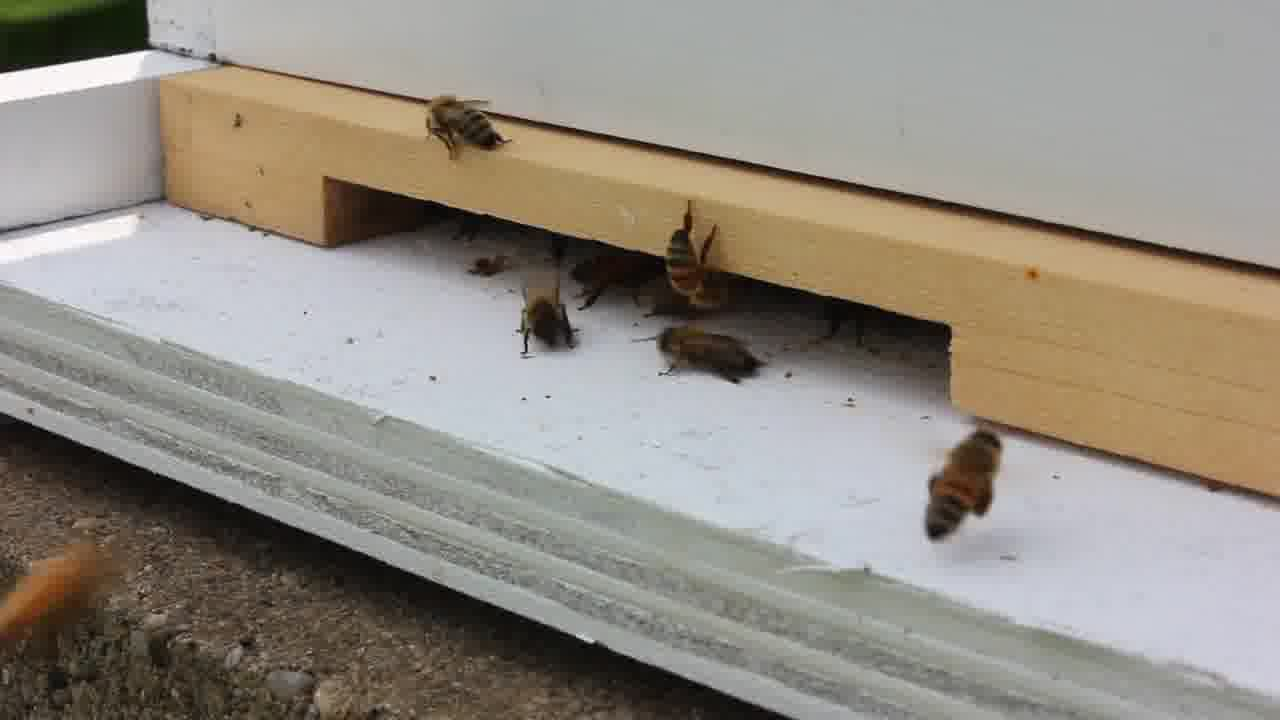pollen: (920, 427, 1002, 546)
